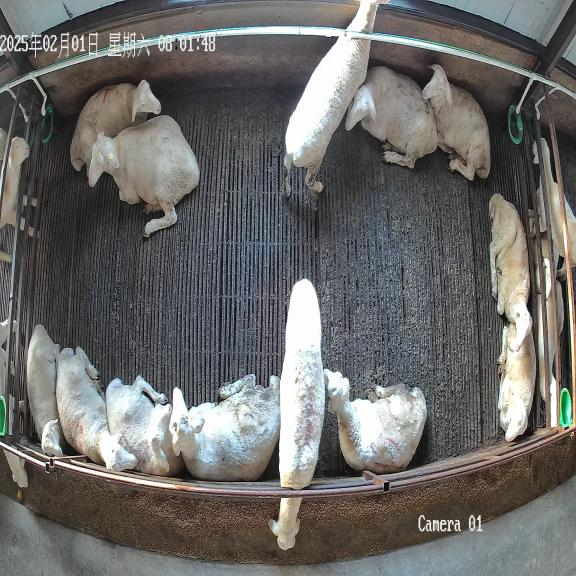eating: (269, 279, 325, 550)
lying: (88, 115, 200, 236), (169, 375, 280, 481), (324, 369, 427, 474), (56, 347, 137, 470), (345, 66, 437, 168), (70, 80, 161, 175), (105, 376, 185, 476), (422, 64, 490, 180), (489, 194, 532, 350), (27, 325, 64, 456), (497, 320, 536, 441)
stand: (283, 0, 388, 198)
